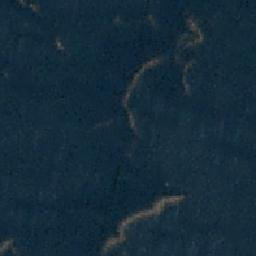debris: (101, 229, 128, 248), (154, 193, 186, 206), (136, 204, 164, 217), (118, 213, 138, 229), (181, 61, 191, 92), (128, 73, 143, 93), (188, 21, 203, 41), (141, 57, 159, 73), (21, 1, 44, 13), (49, 39, 68, 53), (178, 37, 191, 55), (126, 107, 136, 130), (145, 13, 156, 29), (120, 93, 130, 110), (1, 236, 15, 248), (113, 13, 123, 24)
